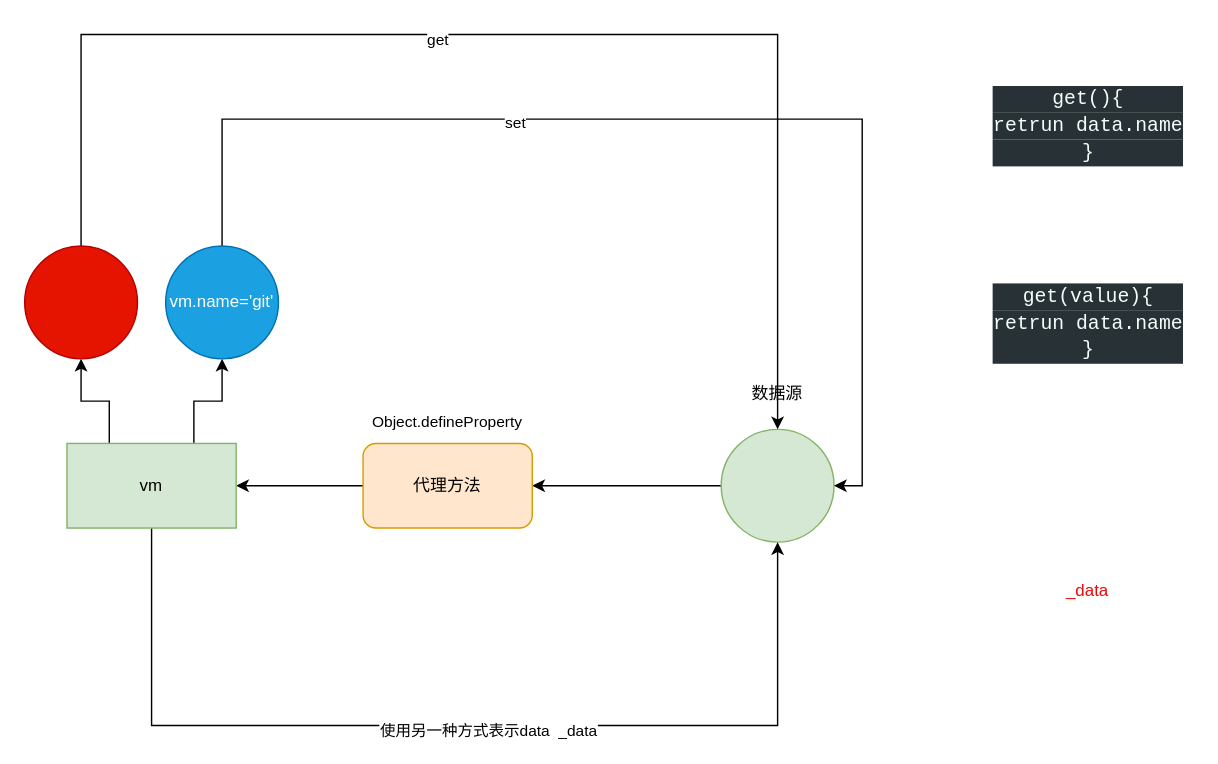
Some shapes in this 1218 by 764 pixel diagram are drawn without their labels. Each missing label, with the box of its shape:
data{name}: (720, 428, 834, 542)
vm.name: (23, 245, 137, 359)
